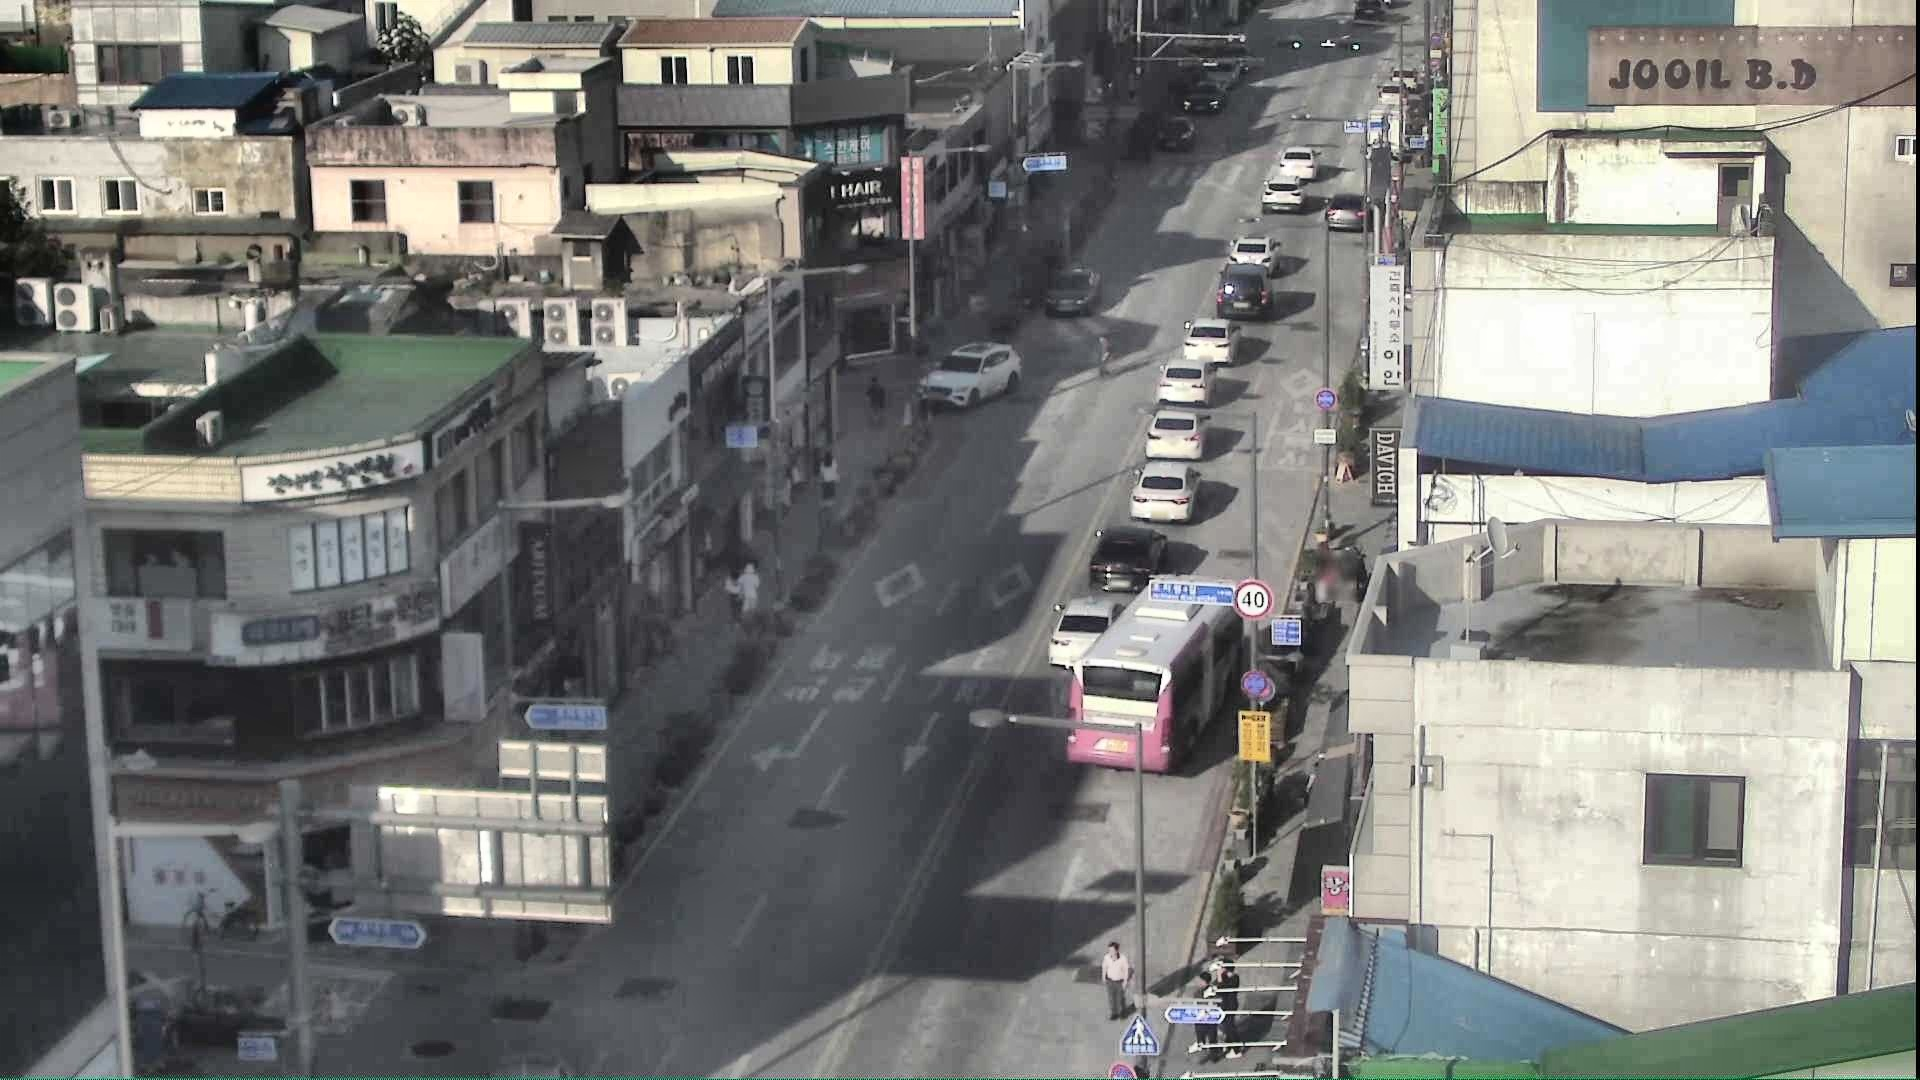jaywalk: (1096, 936, 1141, 1021), (1089, 331, 1116, 381)
sidewalk: (1221, 953, 1244, 1052), (1192, 971, 1213, 1048), (737, 558, 761, 621), (721, 562, 742, 618), (864, 372, 886, 425), (818, 451, 839, 502)
